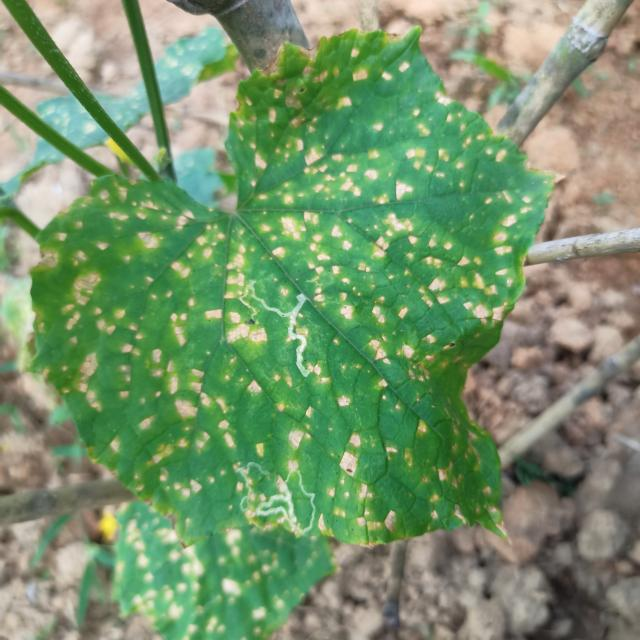disease_cucumber: (62, 82, 503, 530)
